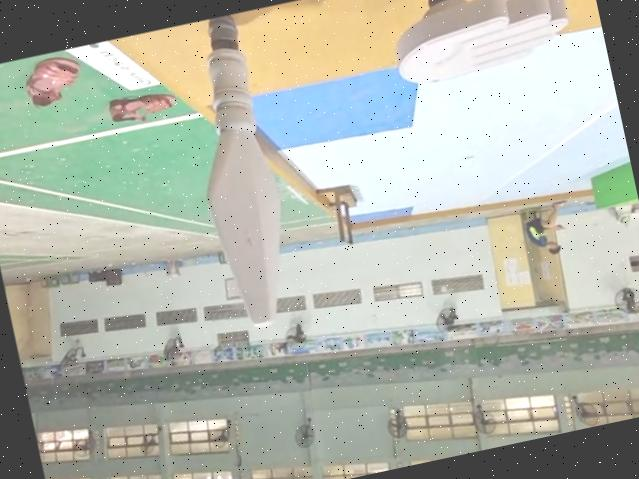Hand: (373, 0, 581, 92)
Sph: (165, 12, 304, 334)
